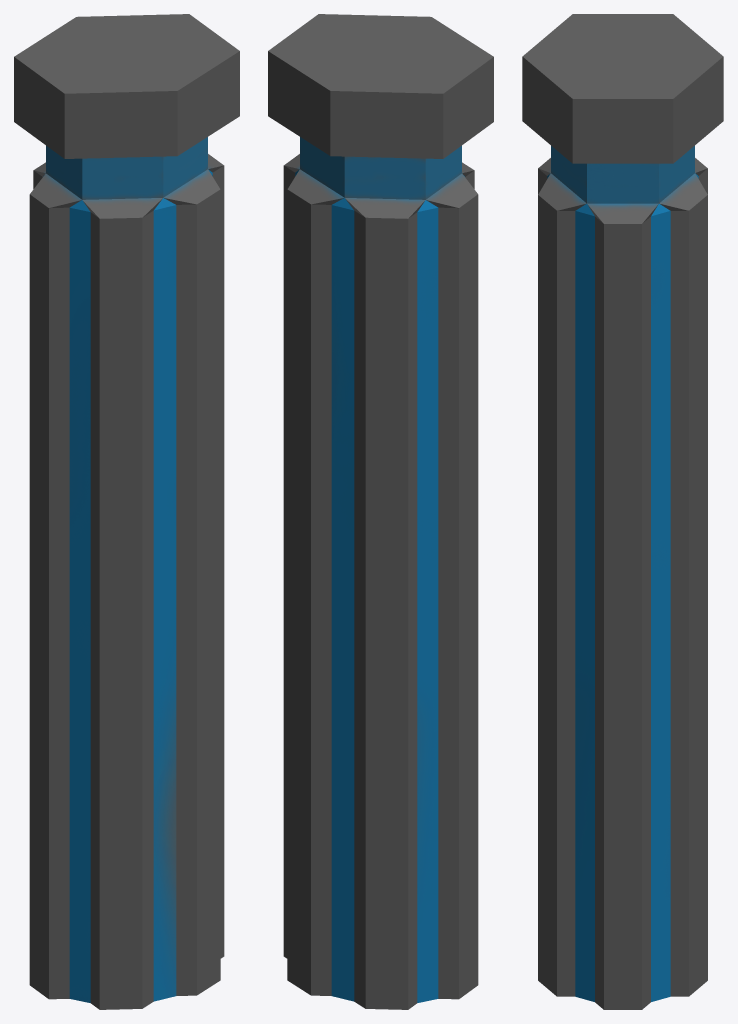
File: guard rail.obj
The picture shows the model from 3 angles, left to right: view 1: azimuth 30°, elevation 25°; view 2: azimuth 150°, elevation 25°; view 3: azimuth 270°, elevation 25°; orthographic projection.
Parts seen in each view (by area): view 1: guard_rail.005_Cylinder.007; view 2: guard_rail.005_Cylinder.007; view 3: guard_rail.005_Cylinder.007.
Boxes of the visible parts, x1,y1,x2,y2 form: guard_rail.005_Cylinder.007: [14, 14, 239, 1009]; guard_rail.005_Cylinder.007: [268, 14, 493, 1009]; guard_rail.005_Cylinder.007: [522, 14, 723, 1009].
Size of the model in its own units: 0.2 by 1 by 0.2.
